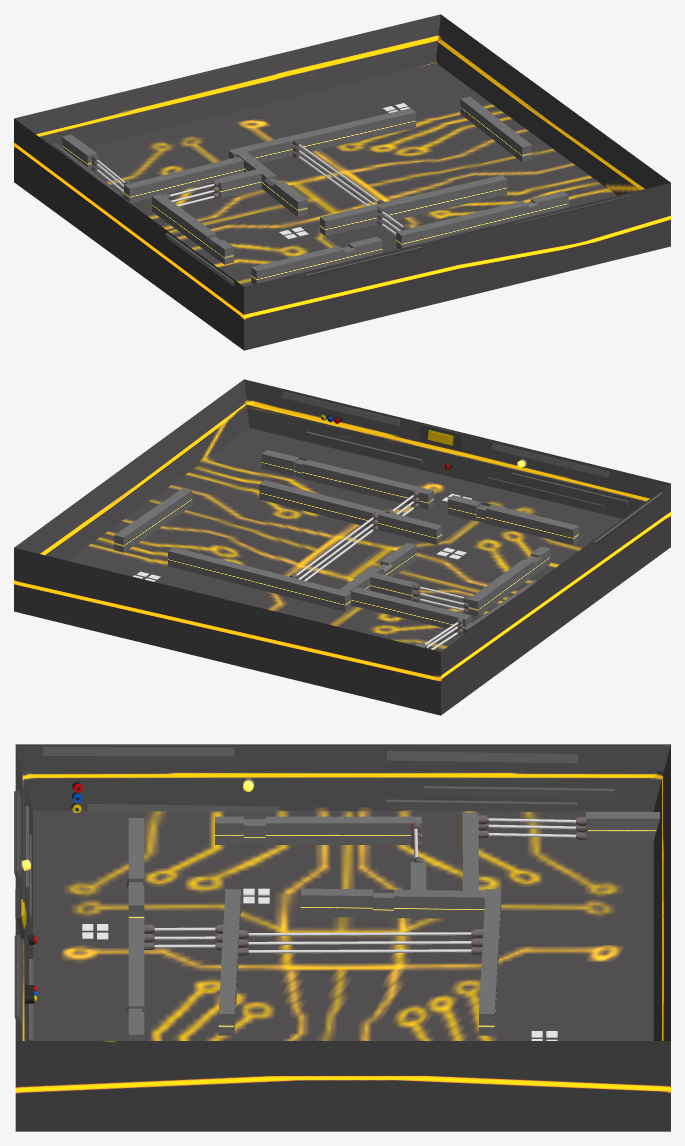
Rendered from Levellayoutlevel2 1.fbx.
3 renders of one model, top to bottom at view 1: azimuth 30°, elevation 25°; view 2: azimuth 150°, elevation 25°; view 3: azimuth 270°, elevation 25°, orthographic. The views are drawn at different scales.
Visible parts, largest first — view 1: Level2base, Cube.008, Cube.003, Cube.005, Cube.004, Cube.007, Cube.025, Cube.006, Cube.002, Cube.026, Cube.001, Cube.024 (+1 smaller); view 2: Level2base, Cube.003, Cube.008, Cube.005, Cube.004, Cube.007, Cube.025, Cube.006, Cube.002, Cube.036, Cube.041, Cube.039 (+5 smaller); view 3: Level2base, Cube.025, Cube.002, Cube.003, Cube.008, Cube.044, Cube.024, Cube.045, Cube.043, Cube.042, Cube.005, Cube.004 (+7 smaller).
Boxes of the visible parts, left/top/right/bottom form: Level2base: left=14, top=14, right=670, bottom=350; Cube.008: left=320, top=175, right=507, bottom=236; Cube.003: left=228, top=108, right=415, bottom=163; Cube.005: left=251, top=236, right=382, bottom=284; Cube.004: left=438, top=191, right=568, bottom=238; Cube.007: left=124, top=157, right=243, bottom=202; Cube.025: left=152, top=194, right=233, bottom=264; Cube.006: left=460, top=96, right=531, bottom=162; Cube.002: left=236, top=151, right=307, bottom=216; Cube.026: left=215, top=169, right=261, bottom=198; Cube.001: left=396, top=221, right=443, bottom=248; Cube.024: left=61, top=134, right=97, bottom=169; Level2base: left=14, top=379, right=670, bottom=715; Cube.003: left=168, top=547, right=350, bottom=611; Cube.008: left=259, top=480, right=442, bottom=544; Cube.005: left=447, top=495, right=578, bottom=544; Cube.004: left=261, top=450, right=391, bottom=499; Cube.007: left=351, top=587, right=471, bottom=630; Cube.025: left=468, top=546, right=550, bottom=616; Cube.006: left=114, top=488, right=192, bottom=552; Cube.002: left=339, top=543, right=416, bottom=592; Cube.036: left=305, top=431, right=422, bottom=466; Cube.041: left=282, top=391, right=400, bottom=426; Cube.039: left=511, top=473, right=628, bottom=507; Level2base: left=15, top=744, right=670, bottom=1131; Cube.025: left=215, top=816, right=421, bottom=844; Cube.002: left=300, top=888, right=486, bottom=918; Cube.003: left=479, top=889, right=501, bottom=1035; Cube.008: left=218, top=889, right=241, bottom=1035; Cube.044: left=424, top=786, right=615, bottom=798; Cube.024: left=586, top=812, right=659, bottom=840; Cube.045: left=386, top=799, right=577, bottom=812; Cube.043: left=386, top=751, right=577, bottom=763; Cube.042: left=43, top=747, right=234, bottom=756; Cube.005: left=127, top=818, right=144, bottom=918; Cube.004: left=126, top=947, right=144, bottom=1040.
Size of the model in its own units: 2465 by 351 by 2299.
